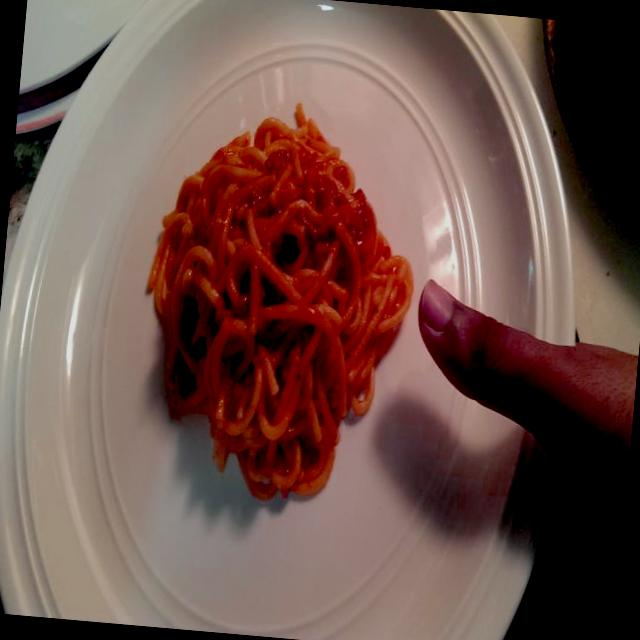Pasta: (88, 86, 424, 528)
